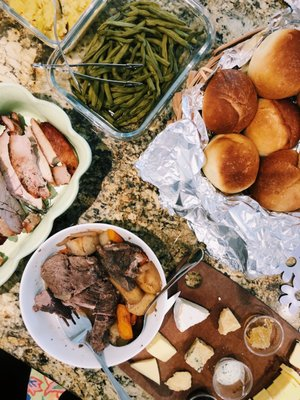sushi: (30, 0, 214, 141), (19, 223, 170, 361), (0, 80, 93, 292)
